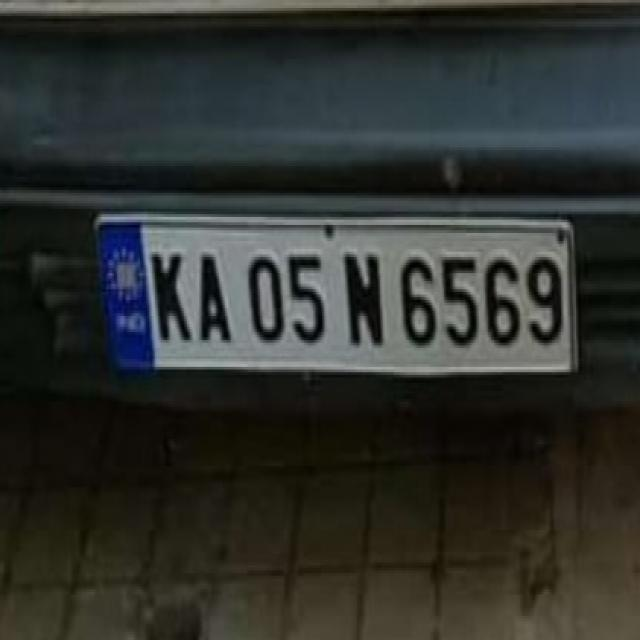0: (246, 250, 288, 350)
5: (284, 241, 330, 352), (442, 238, 482, 354)
6: (481, 242, 523, 354), (397, 241, 438, 350)
9: (524, 254, 566, 356)
A: (191, 241, 234, 353)
K: (147, 246, 194, 356)
N: (341, 243, 388, 352)
